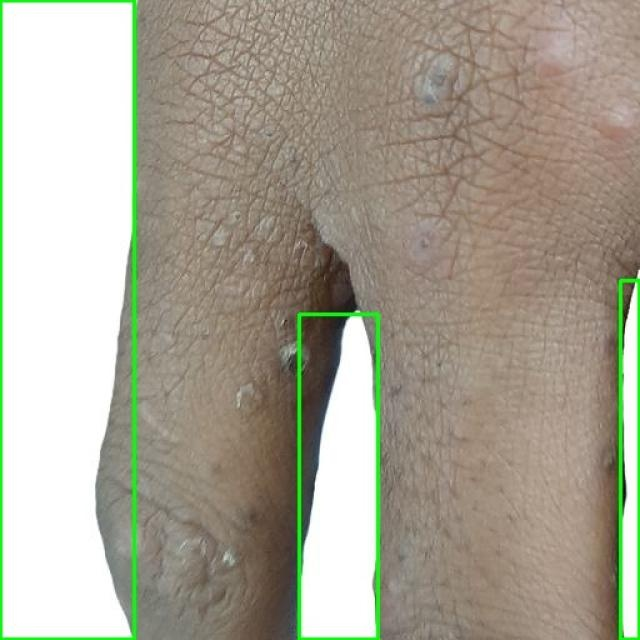Scabies: (0, 0, 134, 639), (299, 314, 378, 639), (620, 280, 639, 639)
